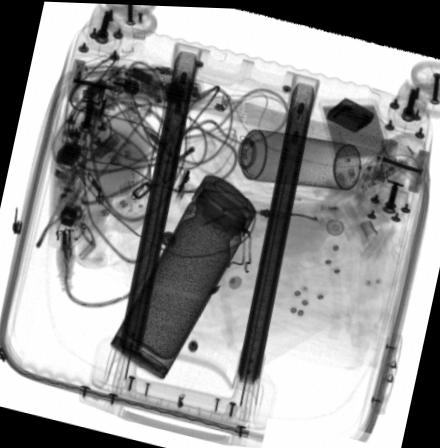Lighter: (325, 94, 374, 130)
Powerbank: (216, 124, 360, 187)
Sprayer: (316, 93, 395, 186)
